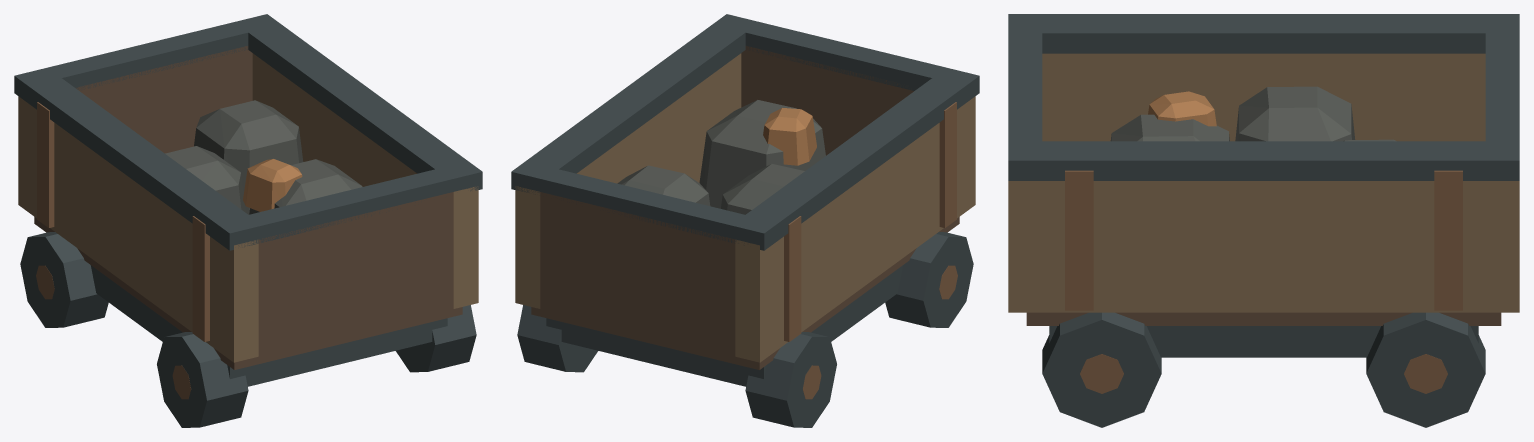
File: Mine_Cart.fbx
3 renders of one model, left to right at view 1: azimuth 30°, elevation 25°; view 2: azimuth 150°, elevation 25°; view 3: azimuth 270°, elevation 25°, orthographic. The views are drawn at different scales.
Parts seen in each view (by area): view 1: Mine_Cart; view 2: Mine_Cart; view 3: Mine_Cart.
Boxes of the visible parts, x1,y1,x2,y2 form: Mine_Cart: (14,14,482,427); Mine_Cart: (511,14,979,427); Mine_Cart: (1008,14,1519,427).
Bounding box in the file's own units: 1.3 × 1.02 × 1.8.
